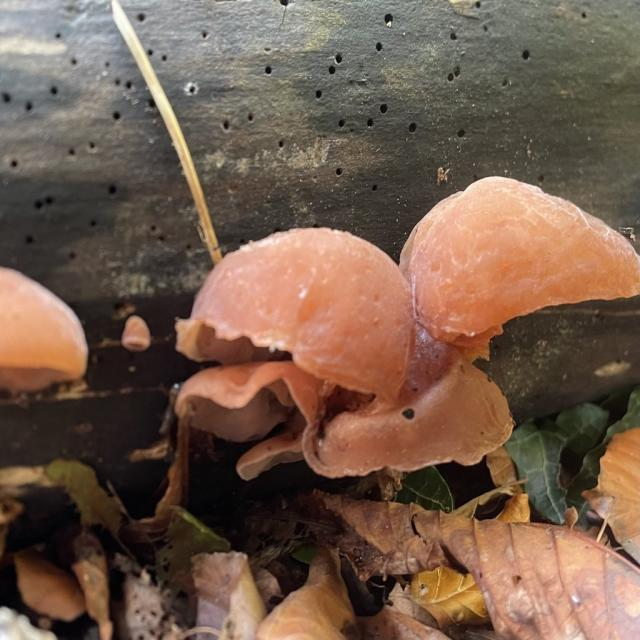Fase Muda: (172, 219, 424, 412), (396, 170, 640, 362), (298, 356, 522, 496), (168, 356, 322, 481), (0, 260, 91, 395)
primordia: (119, 314, 153, 353)
